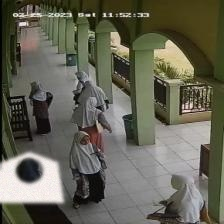Mukena: (0, 152, 64, 202)
